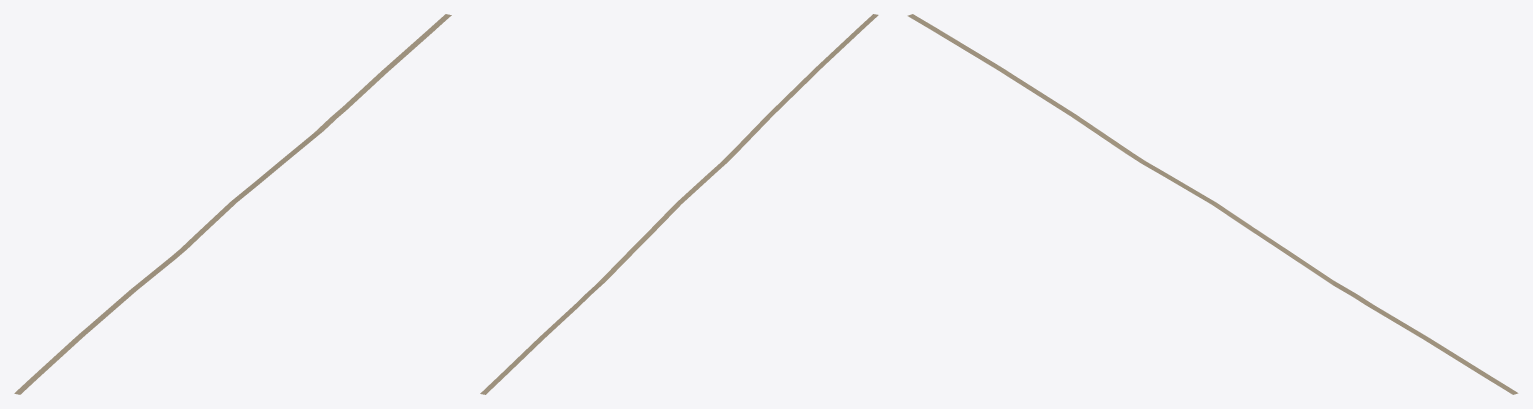
File: farm_5_9_track.glb
3 views of the same model, side by side, from view 1: azimuth 30°, elevation 25°; view 2: azimuth 210°, elevation 25°; view 3: azimuth 270°, elevation 25° (orthographic). The views are drawn at different scales.
Parts seen in each view (by area): view 1: geometry_0; view 2: geometry_0; view 3: geometry_0.
Part boxes in pixels (box(x1,y1,x2,y2)): geometry_0: box(14, 14, 451, 394); geometry_0: box(480, 14, 878, 394); geometry_0: box(907, 14, 1518, 394).
Bounding box in the file's own units: 405 × 9.92 × 289.
